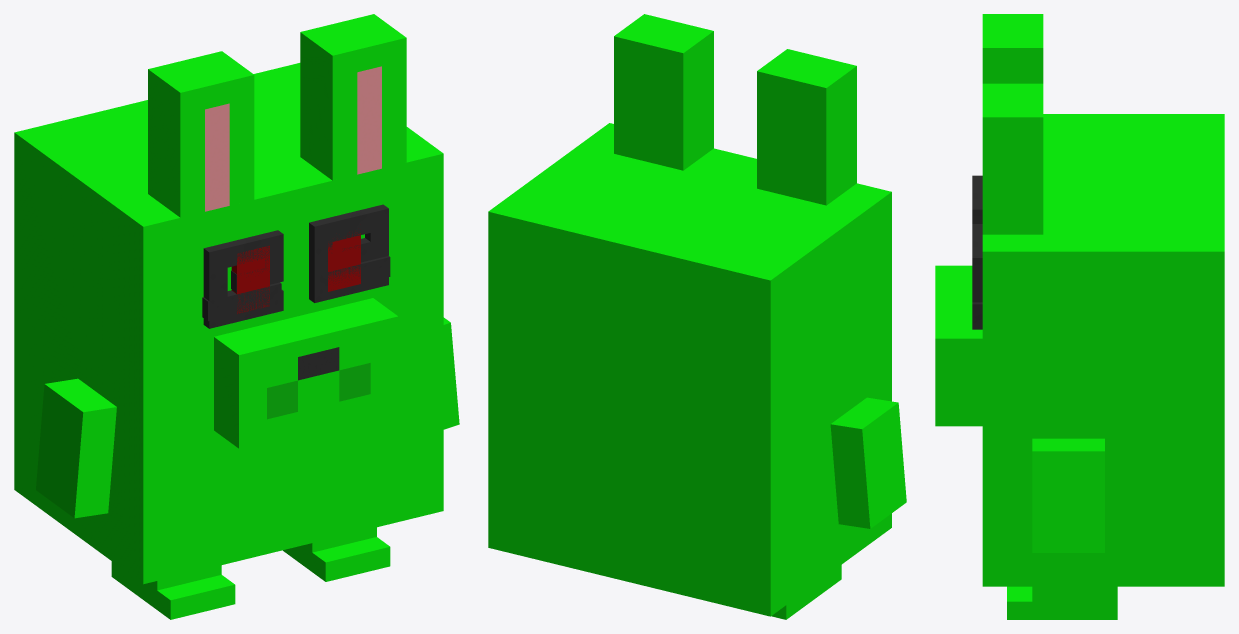
3 renders of one model, left to right at view 1: azimuth 30°, elevation 25°; view 2: azimuth 150°, elevation 25°; view 3: azimuth 270°, elevation 25°, orthographic. The views are drawn at different scales.
Visible parts, largest first — view 1: Ch_25, Ch_25_Ear, Ch_25_Hand_L, Ch_25_Eye_03_R, Ch_25_Eye_03_L, Ch_25_Leg_L, Ch_25_Leg_R, Ch_25_Hand_R; view 2: Ch_25, Ch_25_Ear, Ch_25_Hand_L, Ch_25_Leg_L; view 3: Ch_25, Ch_25_Ear, Ch_25_Hand_R, Ch_25_Leg_R, Ch_25_Eye_03_R, Ch_25_Eye_03_L.
Part boxes in pixels (left/top/right/bottom): Ch_25: left=14, top=63, right=443, bottom=584; Ch_25_Ear: left=148, top=14, right=406, bottom=217; Ch_25_Hand_L: left=36, top=378, right=116, bottom=518; Ch_25_Eye_03_R: left=309, top=204, right=388, bottom=302; Ch_25_Eye_03_L: left=203, top=230, right=283, bottom=328; Ch_25_Leg_L: left=111, top=561, right=235, bottom=619; Ch_25_Leg_R: left=283, top=527, right=390, bottom=581; Ch_25_Hand_R: left=443, top=317, right=459, bottom=429; Ch_25: left=488, top=123, right=891, bottom=616; Ch_25_Ear: left=614, top=14, right=856, bottom=205; Ch_25_Hand_L: left=830, top=397, right=906, bottom=528; Ch_25_Leg_L: left=771, top=565, right=841, bottom=619; Ch_25: left=935, top=114, right=1224, bottom=586; Ch_25_Ear: left=982, top=14, right=1043, bottom=234; Ch_25_Hand_R: left=1032, top=438, right=1104, bottom=552; Ch_25_Leg_R: left=1007, top=586, right=1117, bottom=619; Ch_25_Eye_03_R: left=972, top=224, right=982, bottom=329; Ch_25_Eye_03_L: left=972, top=175, right=982, bottom=223.
Size of the model in its own units: 8.64 by 11.53 by 5.99.
